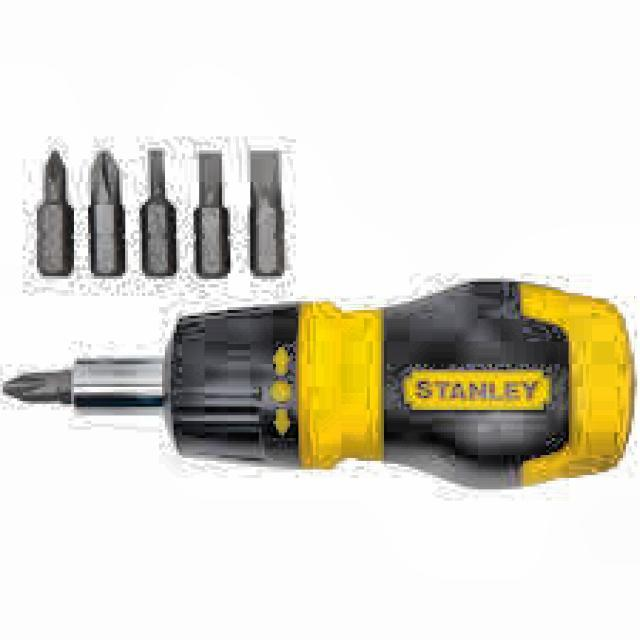screwdriver: (4, 278, 633, 488)
